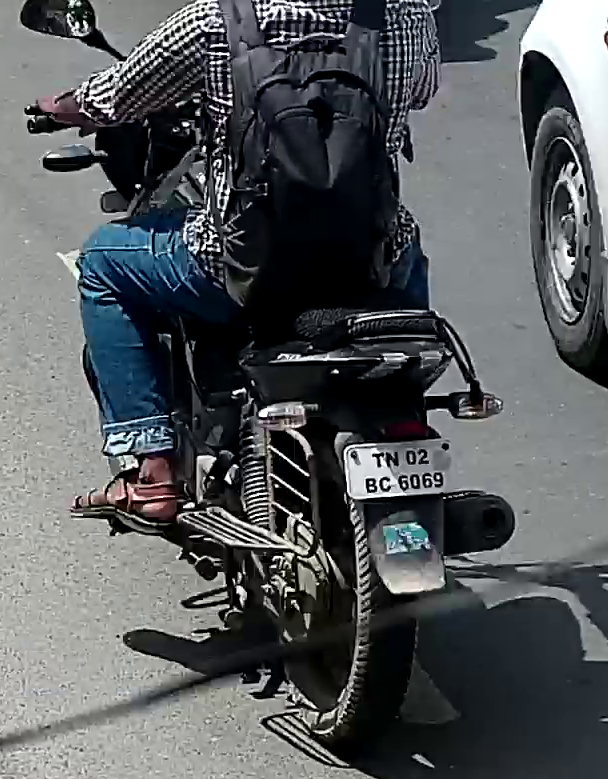0: (406, 450, 417, 466), (410, 473, 421, 489)
2: (418, 449, 430, 466)
6: (398, 474, 409, 492), (422, 472, 432, 489)
9: (433, 472, 444, 488)
B: (366, 477, 378, 494)
C: (379, 476, 392, 492)
N: (385, 451, 399, 468)
P16: (342, 436, 460, 503)
T: (372, 452, 385, 468)
